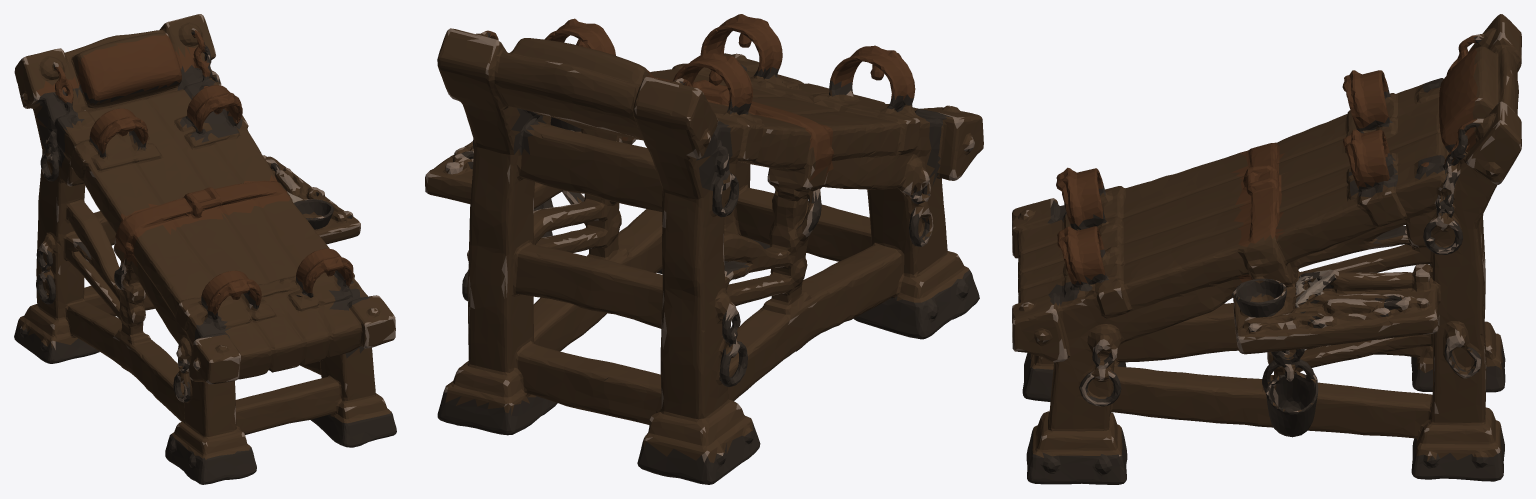
The model's file is mesa_tortura.glb.
The picture shows the model from 3 angles, left to right: view 1: azimuth 30°, elevation 25°; view 2: azimuth 150°, elevation 25°; view 3: azimuth 270°, elevation 25°; orthographic projection. The views are drawn at different scales.
Parts seen in each view (by area): view 1: tmp34hah200.ply; view 2: tmp34hah200.ply; view 3: tmp34hah200.ply.
Boxes of the visible parts, x1=… form: tmp34hah200.ply: x1=14, y1=14, x2=396, y2=484; tmp34hah200.ply: x1=425, y1=14, x2=983, y2=484; tmp34hah200.ply: x1=1012, y1=14, x2=1521, y2=484.
Size of the model in its own units: 1.37 by 1.54 by 1.96.
